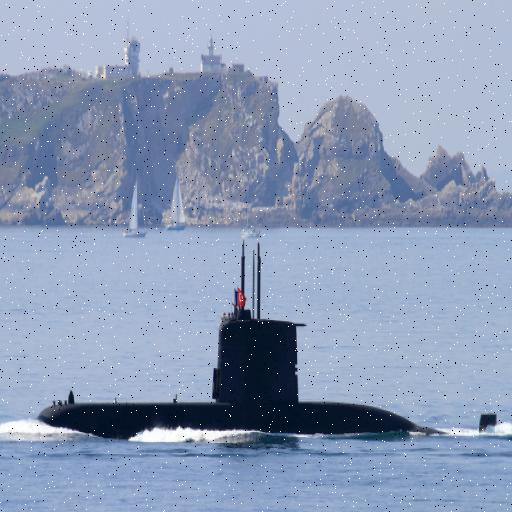submarine: (40, 314, 494, 434)
